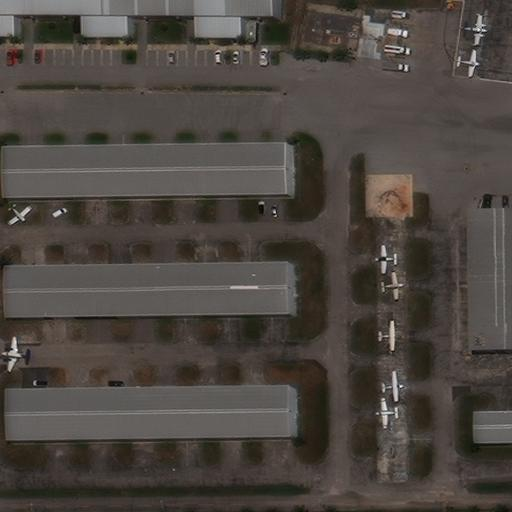Small Civil Transport: (1, 335, 30, 372), (460, 14, 488, 45), (374, 397, 399, 429), (380, 370, 404, 401), (380, 271, 404, 300), (376, 319, 397, 352), (374, 243, 396, 274), (456, 51, 481, 78), (9, 206, 32, 226)
